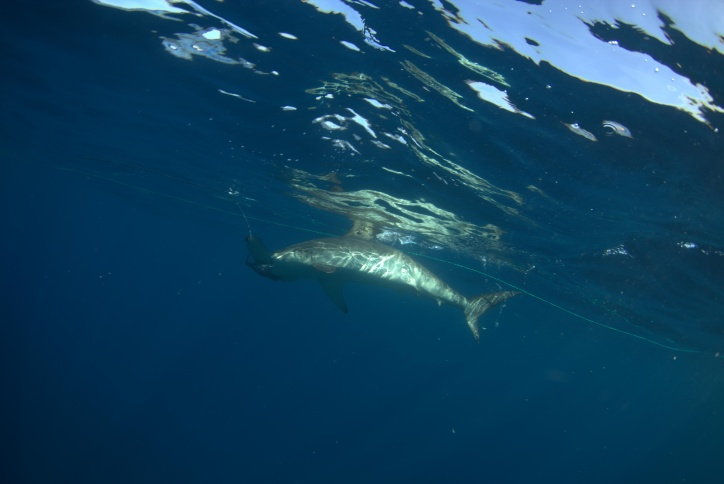Hammer: (223, 202, 580, 389)
